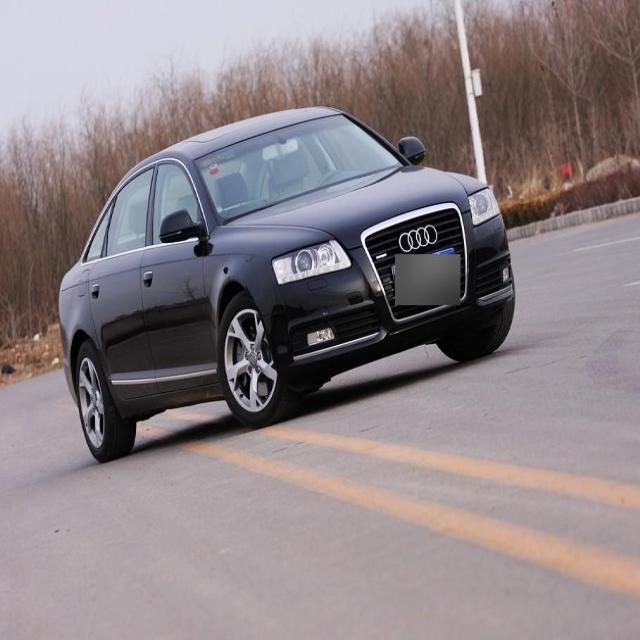door: (89, 163, 159, 416)
front_bumper: (248, 204, 517, 376)
front_glass: (192, 111, 405, 222)
front_left_side_light: (465, 184, 502, 230)
front_left_side_mirror: (398, 135, 426, 168)
front_right_side_door: (138, 156, 222, 396)
front_right_side_light: (271, 234, 353, 286)
front_right_side_mirror: (159, 208, 207, 243)
wheel: (221, 296, 301, 430), (74, 339, 137, 462), (432, 289, 516, 366)
